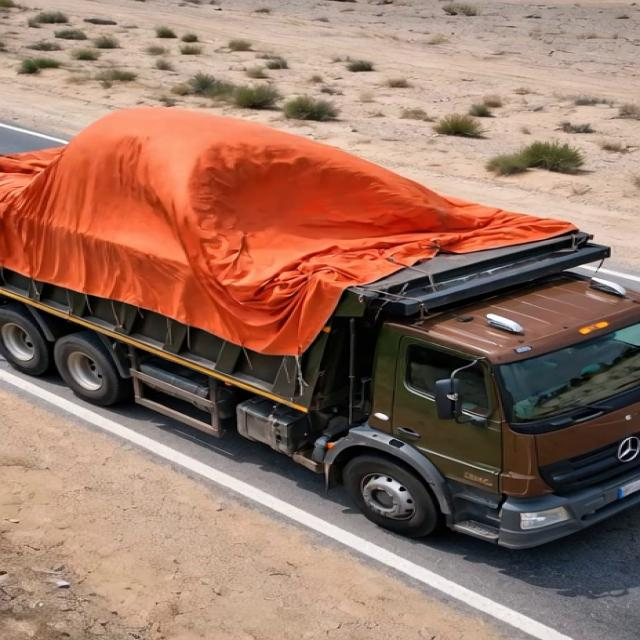Box: (0, 111, 611, 314)
Truck: (0, 85, 633, 527)
